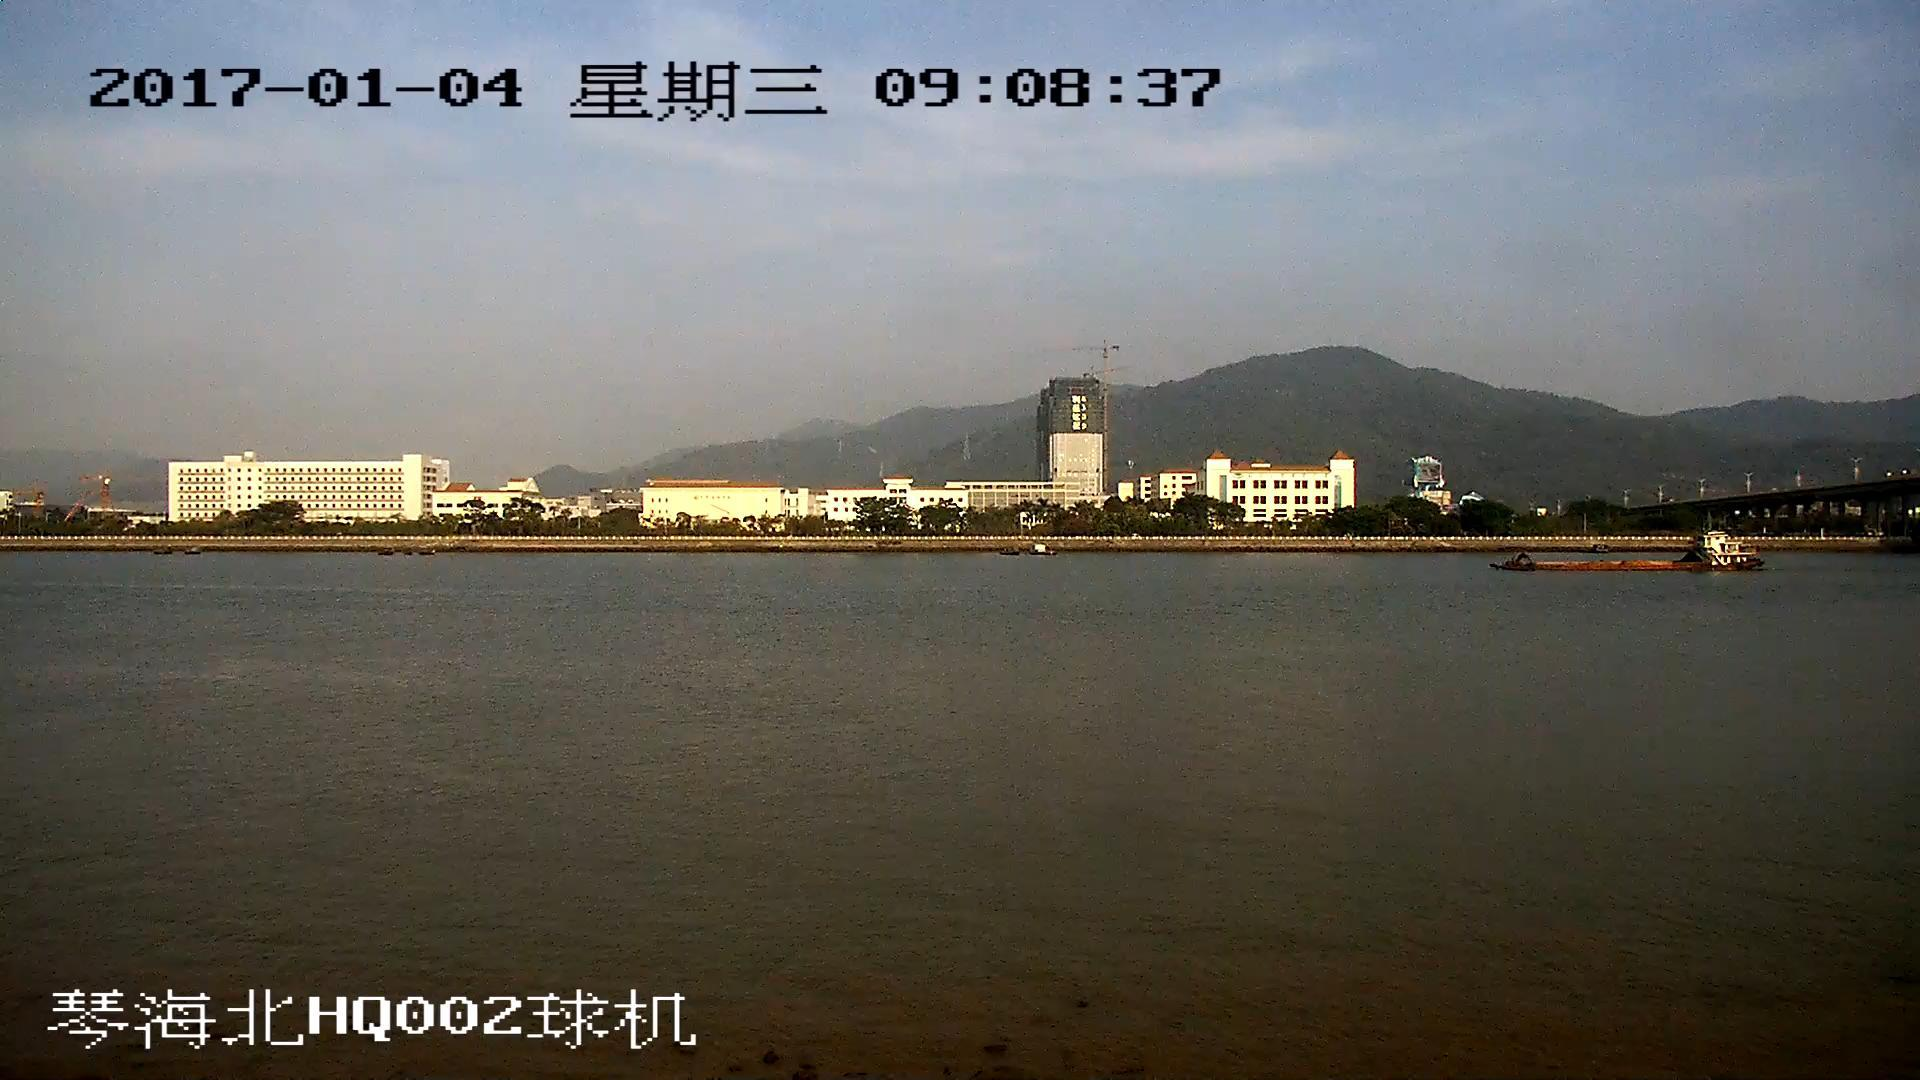Ship: (1505, 531, 1760, 574)
